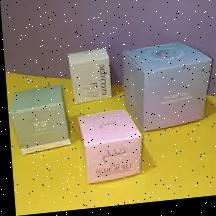cube: (120, 42, 215, 137), (74, 113, 141, 189), (6, 86, 69, 155)
